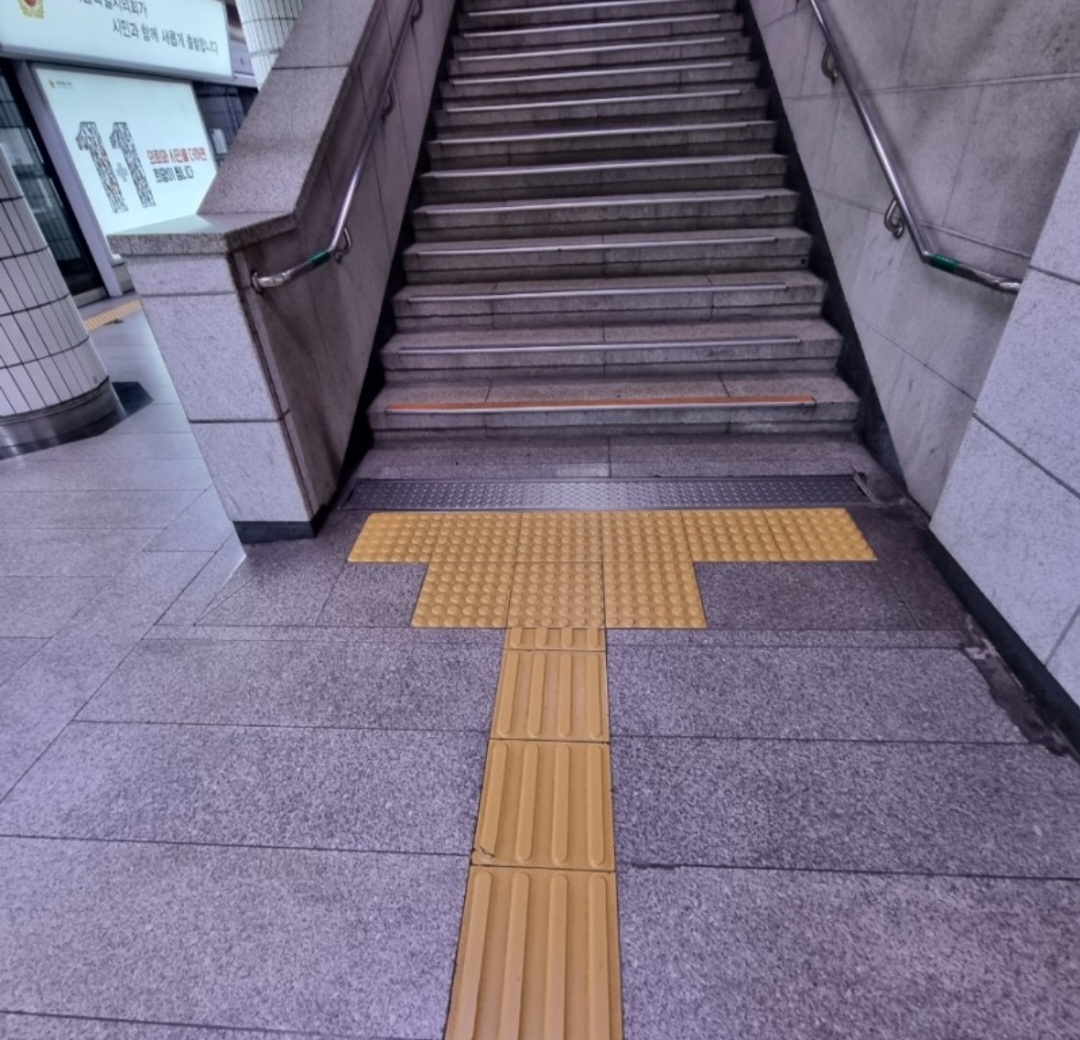guideBlock: (455, 879, 625, 1040), (479, 739, 635, 876), (506, 628, 620, 747)
warningBlock: (613, 564, 721, 642), (512, 564, 613, 634), (420, 568, 521, 631), (773, 510, 869, 575), (679, 504, 768, 565), (430, 505, 520, 564), (610, 508, 691, 566), (516, 520, 604, 572), (355, 512, 435, 561)
